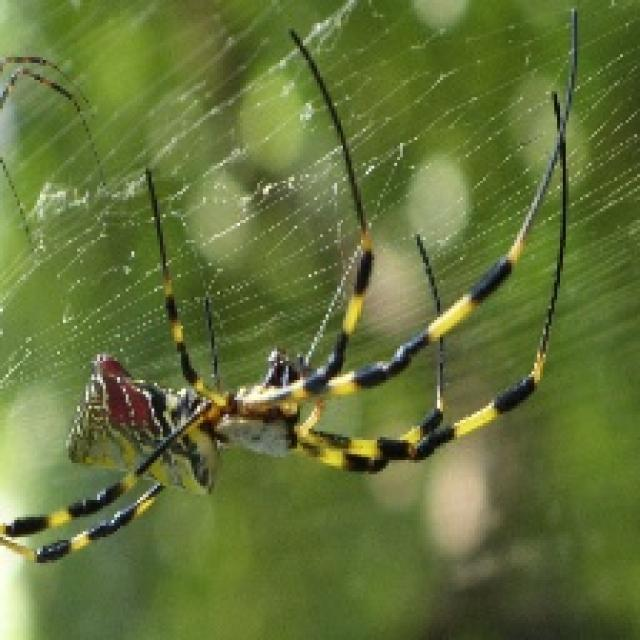Non venomous spider: (8, 111, 589, 604)
